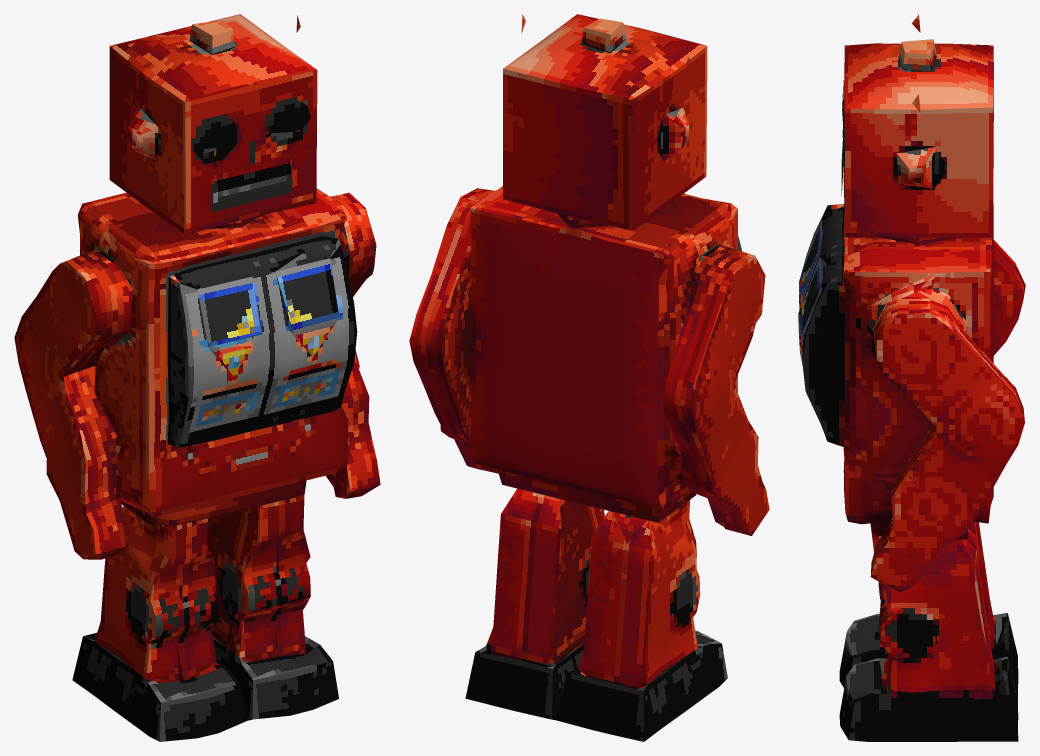
The model's file is toy_robot2.glb.
3 views of the same model, side by side, from view 1: azimuth 30°, elevation 25°; view 2: azimuth 150°, elevation 25°; view 3: azimuth 270°, elevation 25° (orthographic). The views are drawn at different scales.
Visible parts, largest first — view 1: mesh; view 2: mesh; view 3: mesh.
Part boxes in pixels (bbox=[...]): mesh: bbox=[14, 14, 380, 741]; mesh: bbox=[409, 14, 769, 741]; mesh: bbox=[798, 14, 1025, 741].
Size of the model in its own units: 0.0926 by 0.2 by 0.0631.
Materials: 1 (1 with a texture image).
